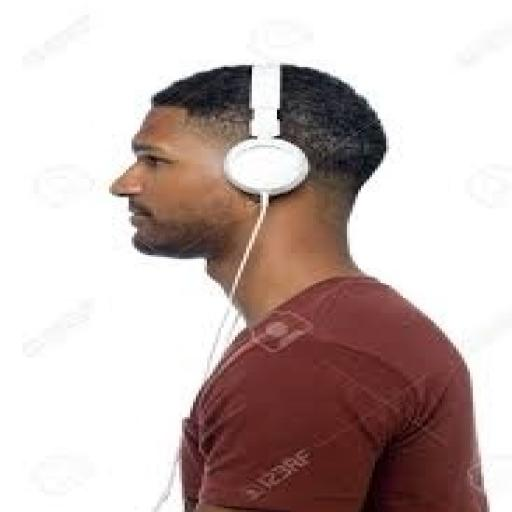listening_to_music: (104, 58, 495, 510)
